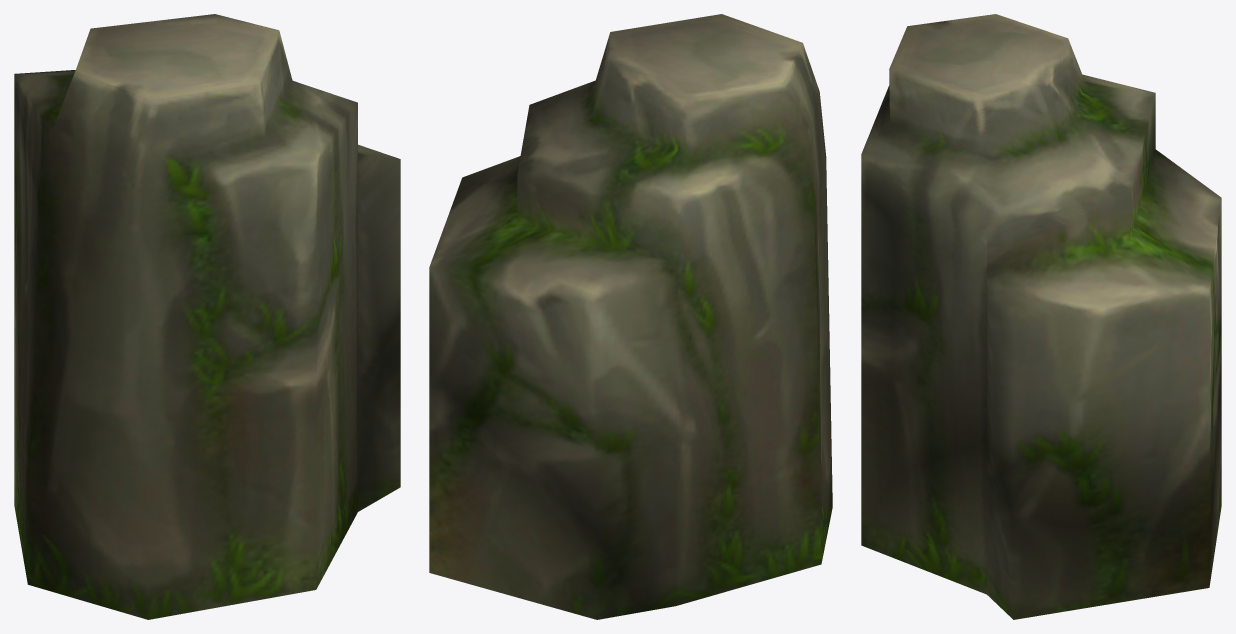
Rendered from RockFormation_4_5 (41).fbx.
The picture shows the model from 3 angles, left to right: view 1: azimuth 30°, elevation 25°; view 2: azimuth 150°, elevation 25°; view 3: azimuth 270°, elevation 25°; orthographic projection. The views are drawn at different scales.
Visible parts, largest first — view 1: RockFormation_4_5 (41); view 2: RockFormation_4_5 (41); view 3: RockFormation_4_5 (41).
Boxes of the visible parts, x1=… form: RockFormation_4_5 (41): x1=14, y1=14, x2=400, y2=619; RockFormation_4_5 (41): x1=429, y1=14, x2=832, y2=619; RockFormation_4_5 (41): x1=861, y1=14, x2=1221, y2=619.
Size of the model in its own units: 777 by 987 by 705.
